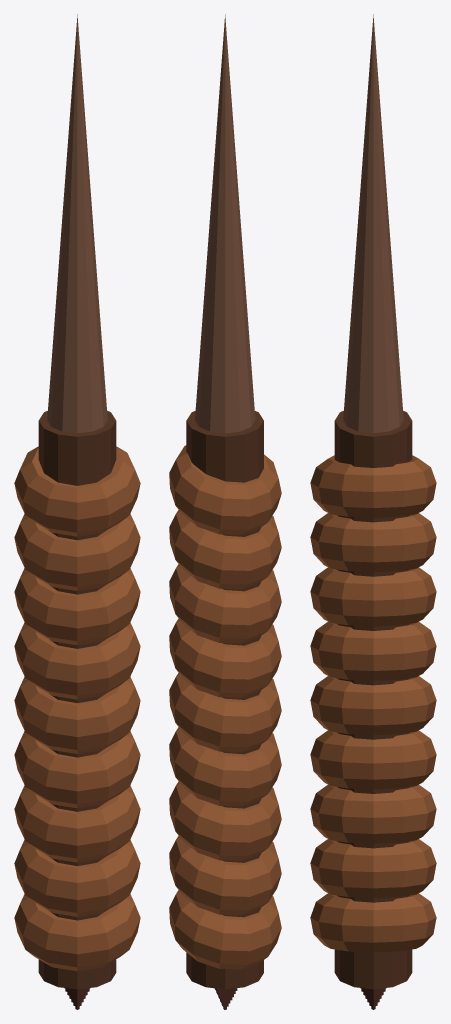
File: Wand 424.glb
The picture shows the model from 3 angles, left to right: view 1: azimuth 90°, elevation 25°; view 2: azimuth 150°, elevation 25°; view 3: azimuth 270°, elevation 25°; orthographic projection.
Visible parts, largest first — view 1: GeneratedWand; view 2: GeneratedWand; view 3: GeneratedWand.
Part boxes in pixels (bbox=[...]): GeneratedWand: bbox=[14, 14, 140, 1009]; GeneratedWand: bbox=[169, 14, 281, 1009]; GeneratedWand: bbox=[310, 14, 436, 1009].
Size of the model in its own units: 0.0497 by 0.5055 by 0.0581.
